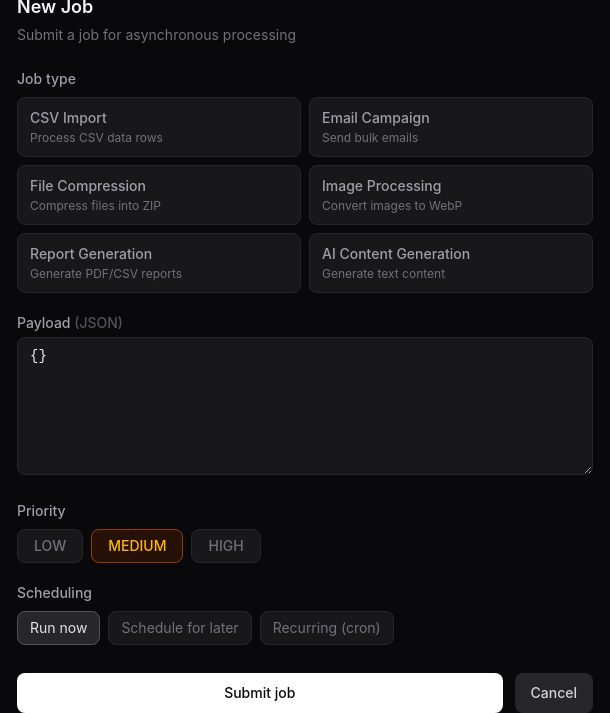
Test: CreateJob form validation › shows error when cron expression is empty in cron mode
Click the text "CSV Import". click: (68, 118)
box: top-left (30, 109), bottom-right (107, 126)
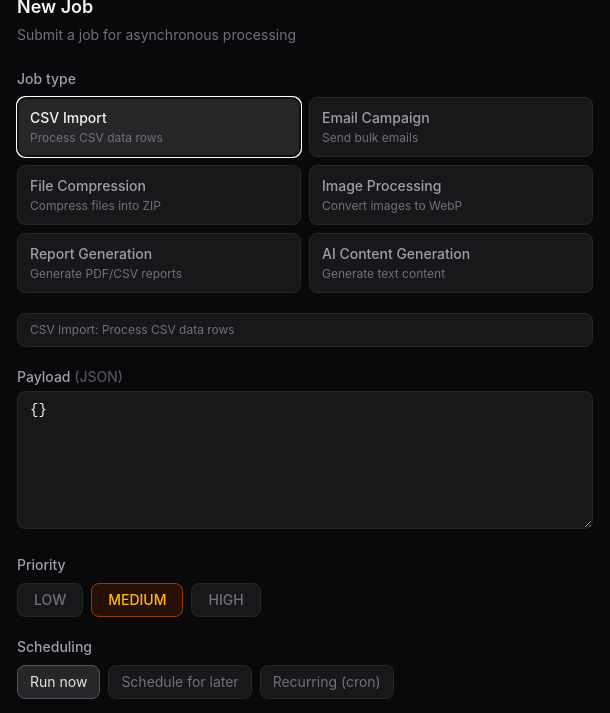
Click the button "Recurring (cron)". click: (327, 682)
box: top-left (260, 665), bottom-right (394, 699)
(page scrolled)
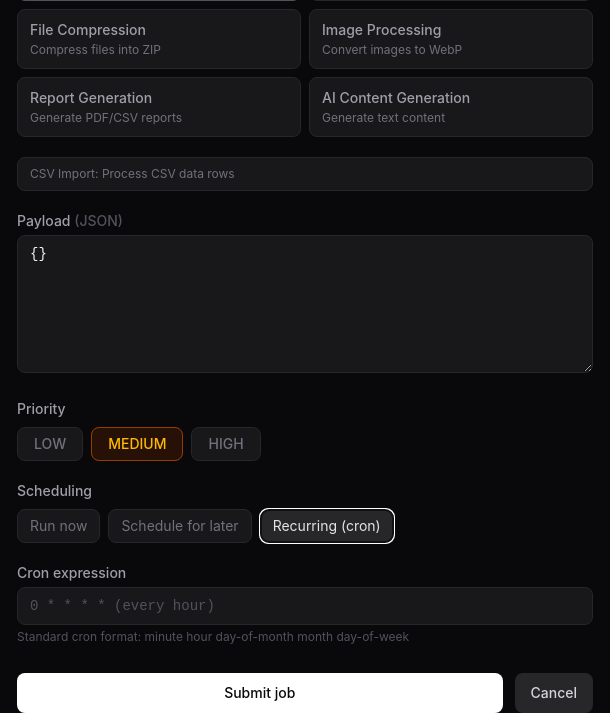
Click the button "Submit job". click: (260, 693)
box: top-left (17, 673), bottom-right (502, 712)
(page scrolled)
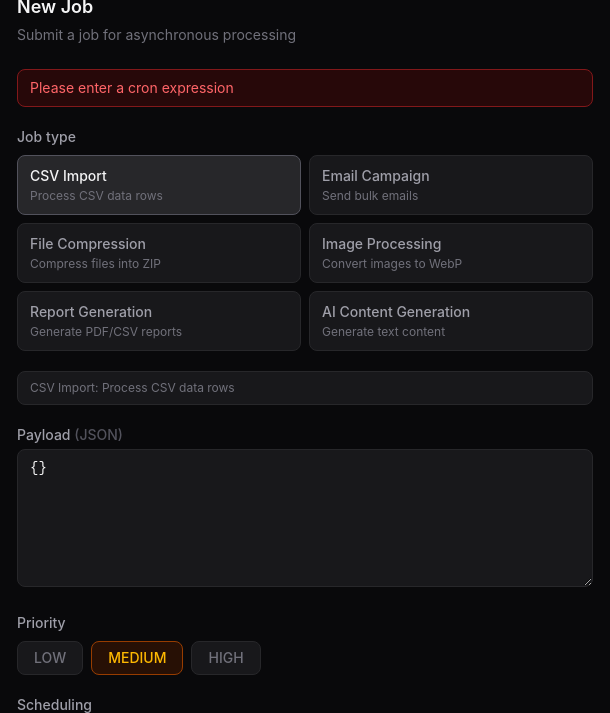
Expected: the text "Please enter a cron expression" is shown, top-left (17, 69), bottom-right (593, 107)
